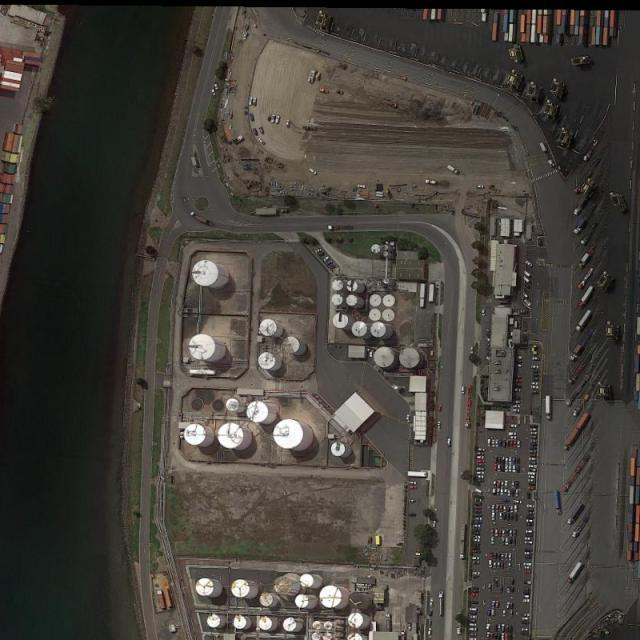vehicle: (562, 453, 592, 494), (563, 412, 592, 451), (564, 374, 592, 406), (569, 328, 595, 362), (577, 246, 597, 270), (574, 310, 593, 334), (566, 502, 585, 526), (577, 285, 595, 310), (572, 394, 590, 418), (581, 222, 598, 246), (567, 562, 584, 584), (190, 212, 213, 226), (573, 196, 588, 217), (573, 217, 588, 235), (554, 490, 562, 514), (461, 524, 466, 560), (446, 164, 460, 176), (438, 591, 445, 615), (545, 396, 552, 419), (523, 270, 532, 279), (327, 224, 340, 230), (474, 494, 485, 501), (526, 260, 534, 269), (425, 179, 437, 185), (309, 167, 318, 175), (258, 126, 266, 135), (322, 255, 331, 263), (326, 259, 334, 267), (522, 276, 531, 283), (253, 127, 259, 137), (429, 597, 435, 607), (314, 247, 322, 254), (258, 138, 266, 145), (210, 88, 217, 96), (531, 357, 542, 362), (437, 421, 442, 432), (498, 527, 504, 536), (522, 291, 528, 300), (274, 115, 280, 124), (446, 438, 452, 447), (488, 583, 493, 593), (524, 551, 534, 556), (356, 184, 366, 189), (427, 627, 432, 637), (319, 251, 326, 258), (473, 534, 482, 539), (471, 556, 480, 561), (499, 585, 504, 594), (490, 536, 495, 545), (509, 432, 518, 437), (502, 439, 507, 448), (253, 97, 258, 106), (469, 607, 478, 612), (429, 609, 434, 618), (432, 520, 437, 529), (474, 505, 482, 510), (507, 512, 512, 520), (523, 562, 533, 566), (472, 543, 482, 547), (499, 438, 503, 448), (531, 385, 539, 390), (494, 454, 498, 464), (530, 425, 540, 429), (508, 456, 513, 464), (250, 113, 254, 123), (270, 114, 275, 122), (486, 623, 491, 631), (506, 601, 511, 609), (407, 512, 417, 516), (407, 499, 417, 503), (526, 519, 535, 523), (474, 498, 483, 502), (473, 510, 482, 514), (514, 513, 518, 522), (499, 503, 503, 512), (501, 561, 505, 570), (472, 549, 481, 553), (494, 578, 498, 587), (506, 535, 510, 544), (524, 555, 533, 559), (476, 472, 485, 476), (532, 370, 541, 374), (506, 440, 510, 449), (492, 438, 496, 447), (482, 307, 486, 316), (470, 345, 474, 354), (513, 395, 522, 399), (530, 449, 539, 453), (521, 632, 530, 636), (286, 119, 290, 128), (438, 404, 442, 413), (491, 600, 495, 609), (510, 609, 514, 618), (503, 609, 507, 618), (462, 385, 466, 394), (509, 530, 514, 537), (510, 586, 515, 593), (509, 626, 514, 633), (470, 540, 481, 543), (474, 186, 485, 189), (474, 514, 482, 518), (474, 521, 482, 525), (474, 527, 482, 531), (492, 504, 496, 512), (492, 514, 496, 522), (524, 581, 532, 585), (525, 566, 533, 570), (489, 560, 493, 568), (522, 599, 530, 603), (526, 529, 534, 533), (509, 554, 513, 562), (501, 553, 505, 561), (513, 440, 517, 448), (530, 464, 538, 468), (530, 439, 538, 443), (530, 428, 538, 432), (476, 480, 484, 484), (509, 464, 513, 472), (498, 464, 502, 472), (494, 464, 498, 472), (513, 481, 517, 489), (515, 482, 519, 490), (504, 481, 508, 489), (522, 621, 530, 625), (248, 98, 252, 106), (214, 82, 218, 90), (470, 615, 478, 619), (470, 623, 478, 627), (470, 634, 478, 638), (486, 632, 490, 640), (492, 608, 496, 616), (526, 515, 536, 518), (525, 541, 535, 544), (502, 536, 505, 546), (476, 464, 486, 467), (532, 374, 542, 377), (512, 385, 522, 388), (508, 634, 513, 640), (491, 530, 495, 537), (503, 513, 507, 520), (514, 505, 518, 512), (510, 505, 514, 512), (502, 529, 506, 536), (514, 529, 518, 536), (532, 390, 539, 394), (498, 457, 502, 464), (493, 488, 497, 495), (512, 458, 516, 465), (493, 481, 497, 488), (529, 475, 536, 479), (504, 633, 508, 640), (494, 632, 498, 639), (490, 632, 494, 639), (488, 609, 492, 616), (495, 601, 499, 608), (527, 501, 536, 504), (494, 560, 497, 569), (524, 548, 533, 551), (476, 468, 485, 471), (531, 366, 540, 369), (512, 410, 521, 413), (487, 438, 490, 447), (532, 378, 541, 381), (513, 389, 522, 392), (518, 455, 521, 464), (502, 463, 505, 472), (469, 628, 478, 631), (470, 602, 479, 605), (498, 622, 501, 631), (409, 486, 418, 489), (526, 523, 534, 526), (473, 531, 481, 534), (527, 511, 535, 514), (514, 501, 522, 504), (477, 456, 485, 459), (478, 449, 486, 452), (500, 512, 503, 520), (496, 504, 499, 512), (472, 562, 480, 565), (473, 572, 481, 575), (507, 585, 510, 593), (522, 617, 530, 620), (526, 534, 534, 537), (513, 538, 516, 546), (510, 436, 518, 439), (513, 406, 521, 409), (510, 425, 518, 428), (510, 440, 513, 448), (496, 438, 499, 446), (514, 379, 522, 382), (530, 462, 538, 465), (530, 458, 538, 461), (530, 454, 538, 457), (530, 447, 538, 450), (530, 443, 538, 446), (530, 436, 538, 439), (509, 488, 512, 496), (530, 469, 538, 472), (529, 472, 537, 475), (517, 466, 520, 474), (498, 481, 501, 489), (470, 611, 478, 614), (498, 632, 501, 640), (506, 624, 509, 632), (410, 481, 418, 484), (506, 529, 509, 536), (474, 524, 481, 527), (495, 529, 498, 536), (511, 513, 514, 520), (504, 505, 507, 512), (503, 500, 510, 503), (509, 562, 512, 569), (498, 561, 501, 568), (490, 551, 493, 558), (494, 552, 497, 559), (518, 441, 521, 448), (477, 476, 484, 479), (532, 383, 539, 386), (513, 401, 520, 404), (506, 457, 509, 464), (516, 490, 519, 497), (498, 489, 501, 496), (513, 465, 516, 472), (502, 481, 505, 488), (529, 479, 536, 482), (501, 633, 504, 640), (501, 624, 504, 631), (476, 460, 486, 462), (524, 614, 530, 617), (525, 538, 534, 540), (510, 536, 512, 545), (498, 554, 501, 560), (501, 489, 504, 495), (469, 638, 478, 640), (429, 620, 432, 626), (474, 518, 482, 520), (526, 506, 534, 508), (477, 453, 485, 455), (522, 628, 530, 630), (505, 554, 507, 562), (506, 464, 508, 472), (505, 490, 508, 495), (515, 376, 522, 378), (531, 433, 538, 435)
